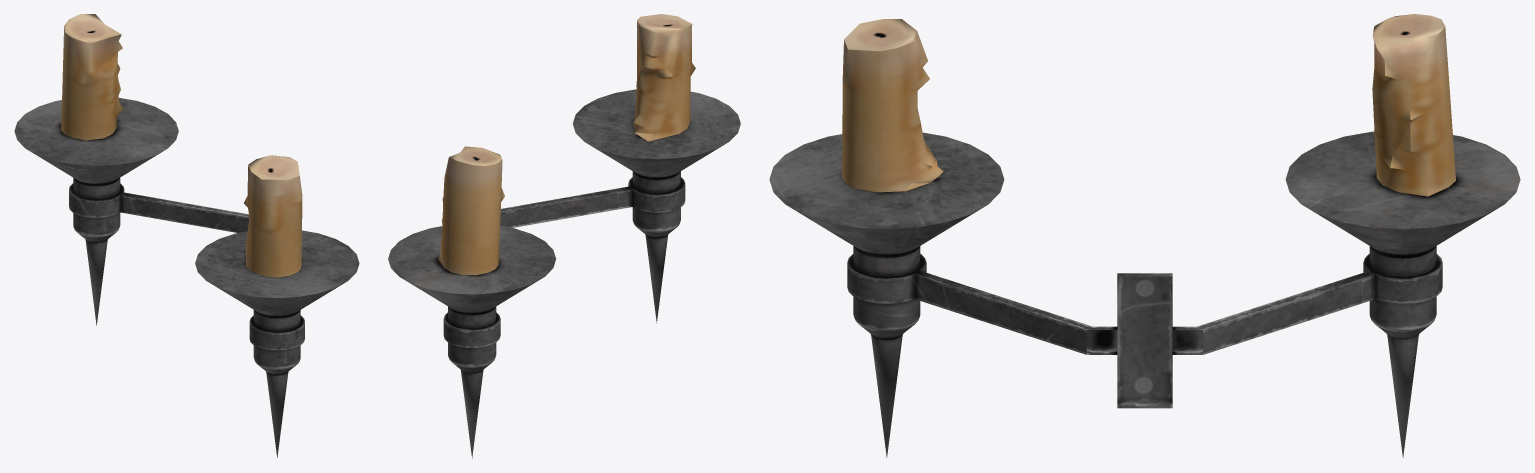
File: SM_CandleStickB.fbx
3 views of the same model, side by side, from view 1: azimuth 30°, elevation 25°; view 2: azimuth 150°, elevation 25°; view 3: azimuth 270°, elevation 25° (orthographic). The views are drawn at different scales.
Visible parts, largest first — view 1: SM_CandleStickB_LOD0; view 2: SM_CandleStickB_LOD0; view 3: SM_CandleStickB_LOD0.
Boxes of the visible parts, x1=… form: SM_CandleStickB_LOD0: x1=14, y1=14, x2=359, y2=457; SM_CandleStickB_LOD0: x1=388, y1=14, x2=740, y2=458; SM_CandleStickB_LOD0: x1=769, y1=14, x2=1520, y2=457.
Bounding box in the file's own units: 17.67 × 47.86 × 30.36.
2 materials, 2 textured.
